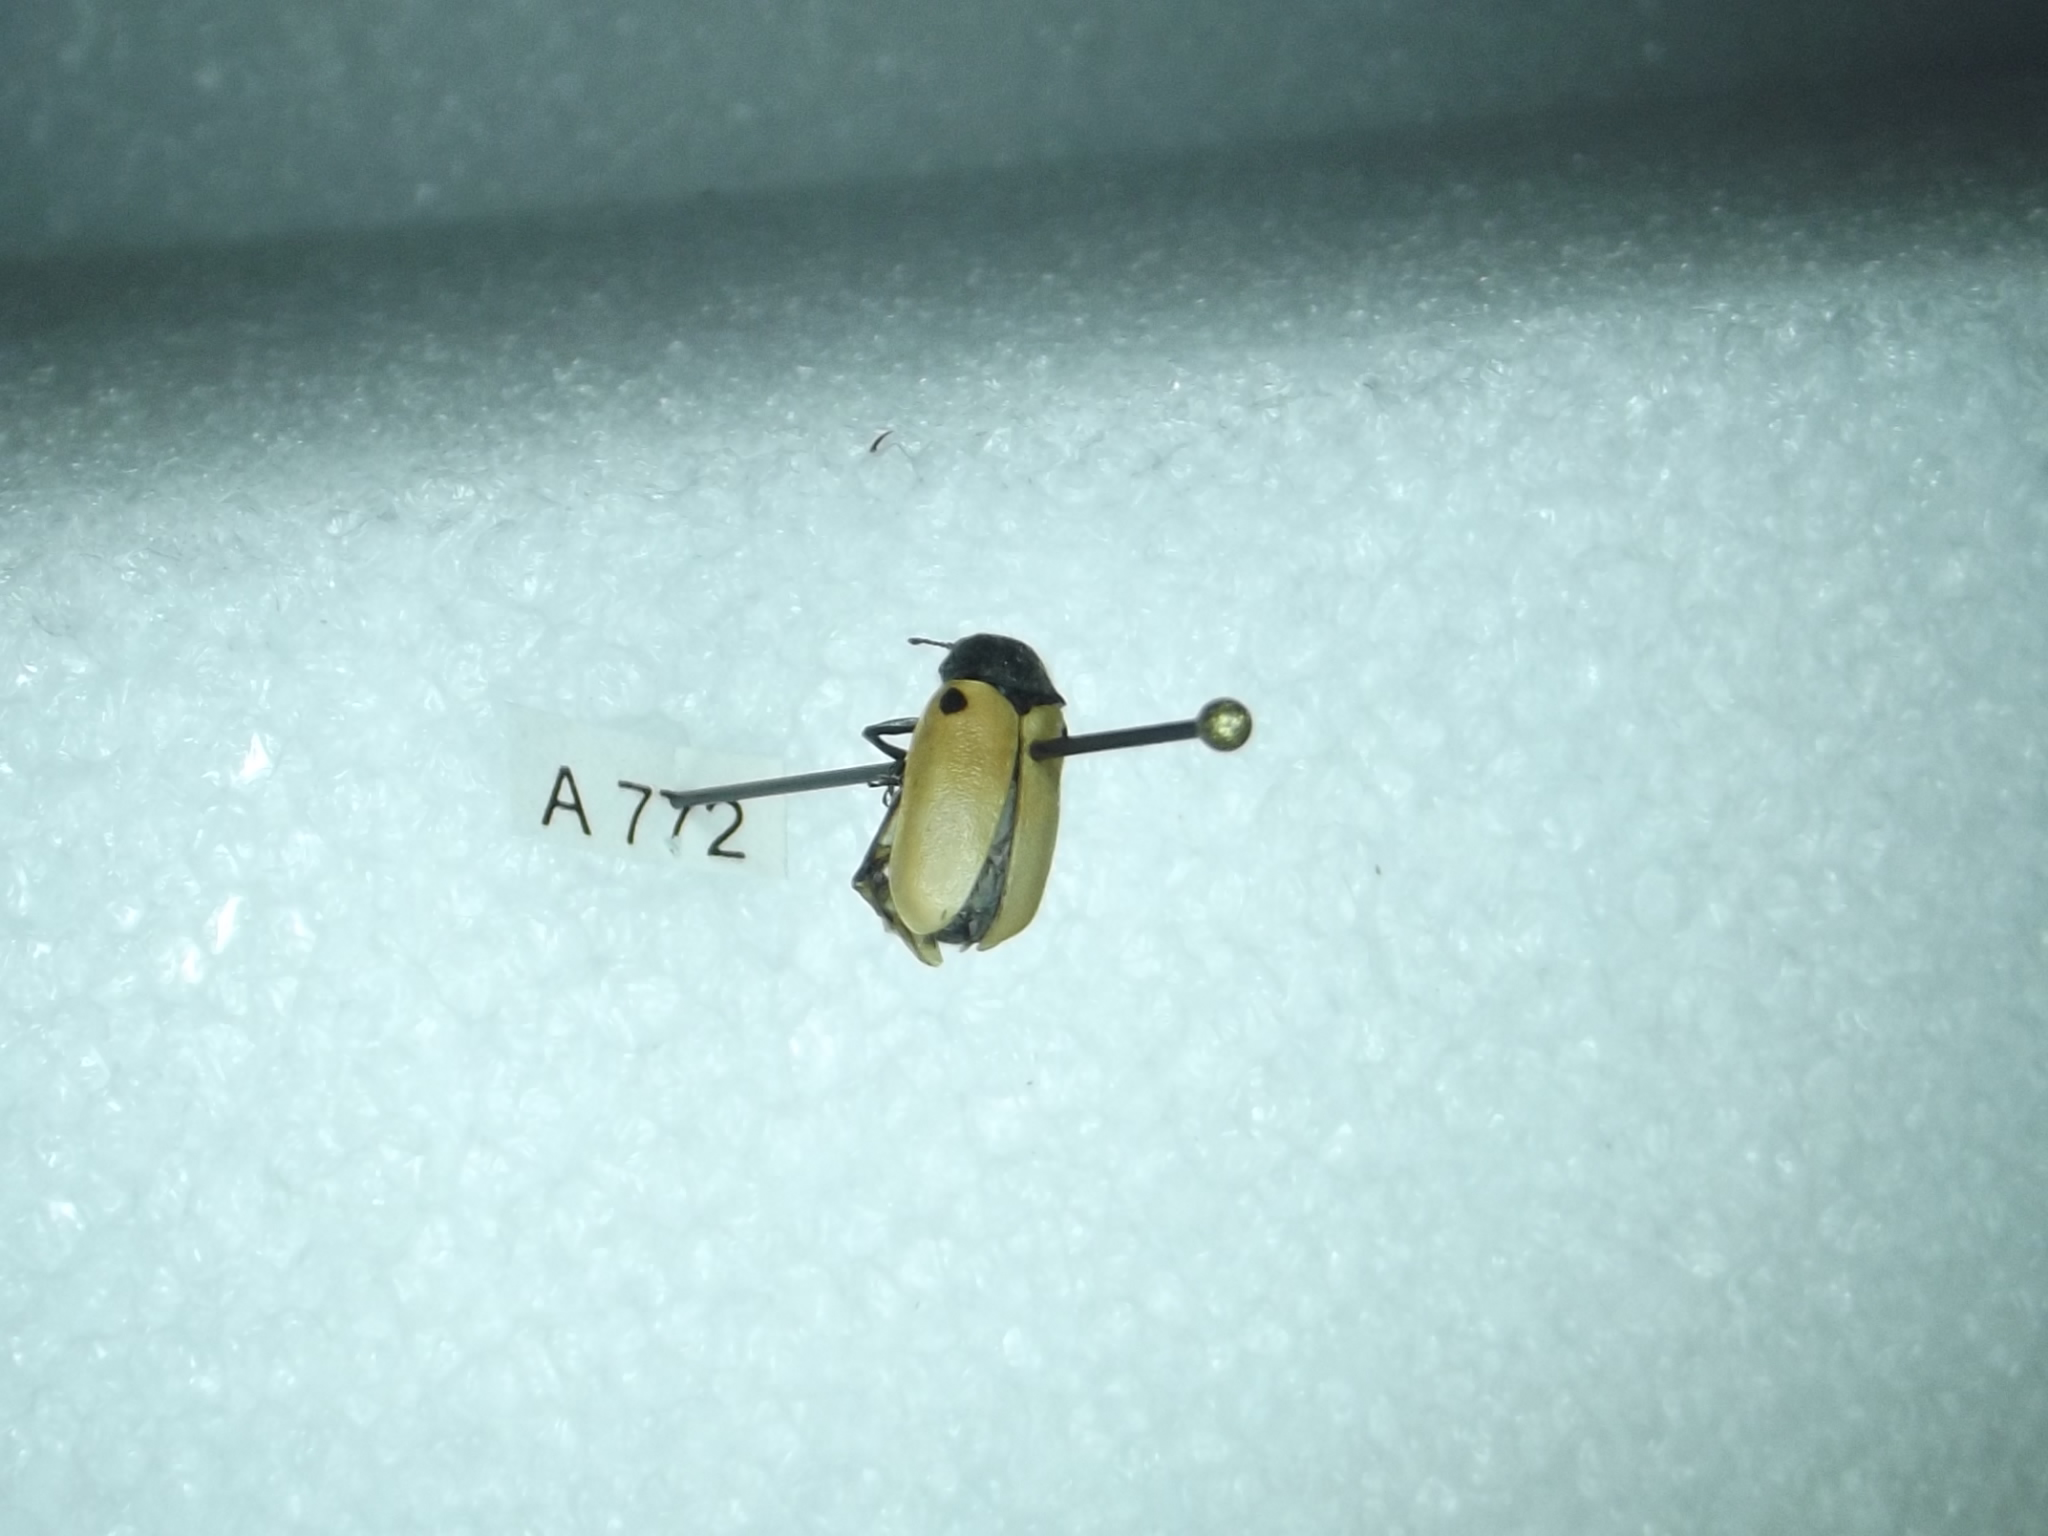Labidostomis_propinqua: (845, 626, 1080, 965)
